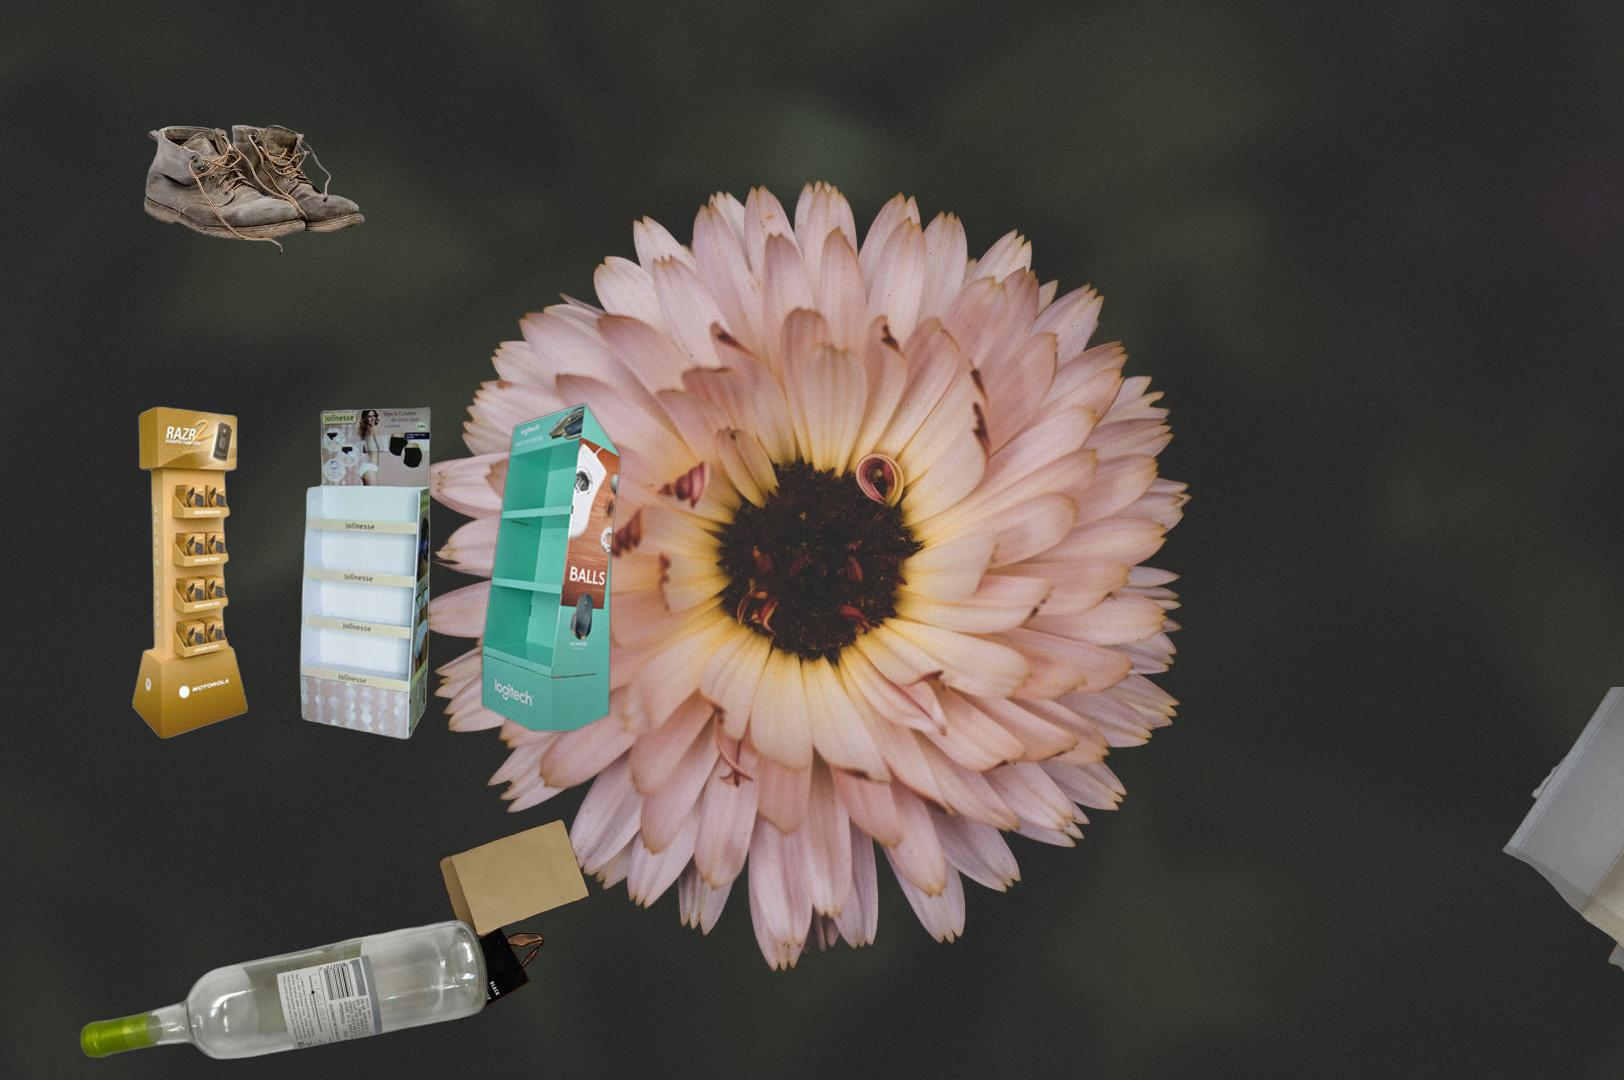glass: (76, 917, 493, 1062)
paper: (1498, 687, 1624, 1072)
paper-bag: (426, 818, 593, 1025)
plastic-bag: (1604, 849, 1624, 1049)
shoes: (141, 122, 367, 258)
trashbox-cardboard: (126, 399, 626, 744)
